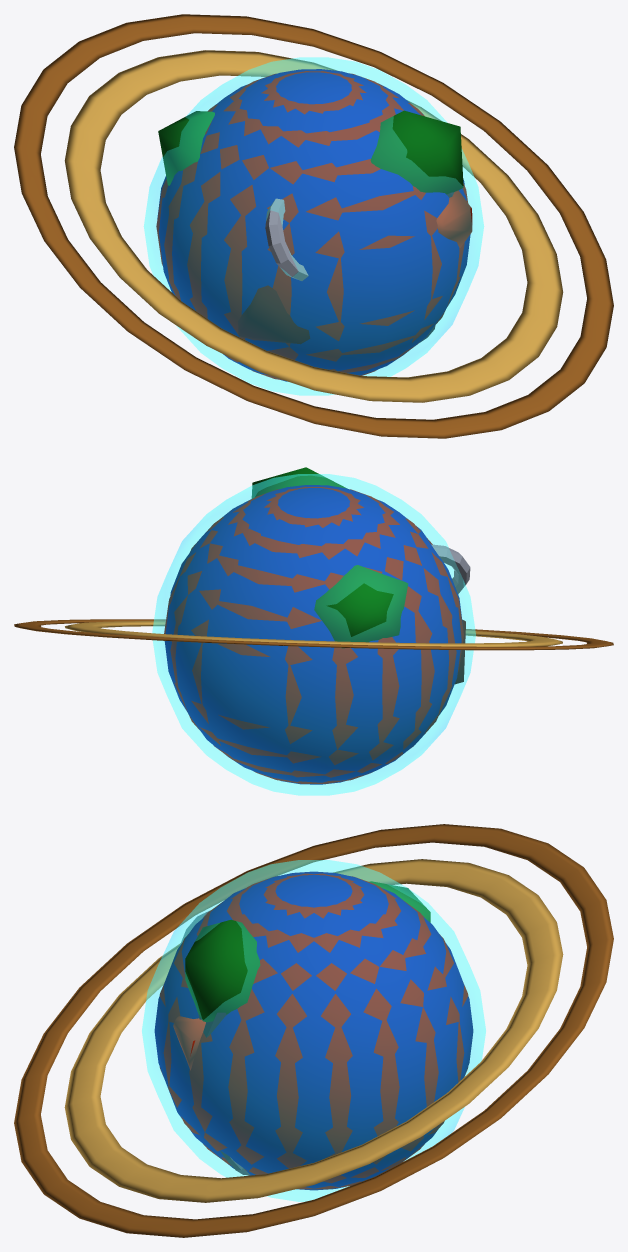
File: planet_pack.glb
3 renders of one model, top to bottom at view 1: azimuth 30°, elevation 25°; view 2: azimuth 150°, elevation 25°; view 3: azimuth 270°, elevation 25°, orthographic. The views are drawn at different scales.
Visible parts, largest first — view 1: PlanetEarth, PlanetSaturn, PlanetMars, PlanetMoon; view 2: PlanetEarth, PlanetMars, PlanetSaturn, PlanetMoon; view 3: PlanetEarth, PlanetSaturn, PlanetMars, PlanetMoon.
Part boxes in pixels (left/top/right/bottom): PlanetEarth: left=143, top=57, right=484, bottom=395; PlanetSaturn: left=14, top=14, right=613, bottom=438; PlanetMars: left=156, top=71, right=472, bottom=380; PlanetMoon: left=265, top=192, right=454, bottom=342; PlanetEarth: left=152, top=467, right=475, bottom=795; PlanetMars: left=164, top=486, right=465, bottom=783; PlanetSaturn: left=14, top=619, right=613, bottom=650; PlanetMoon: left=431, top=544, right=470, bottom=594; PlanetEarth: left=142, top=860, right=485, bottom=1201; PlanetSaturn: left=14, top=824, right=613, bottom=1237; PlanetMars: left=159, top=873, right=468, bottom=1189; PlanetMoon: left=180, top=910, right=250, bottom=1175.
Bounding box in the file's own units: 3.96 × 2.16 × 3.76.
